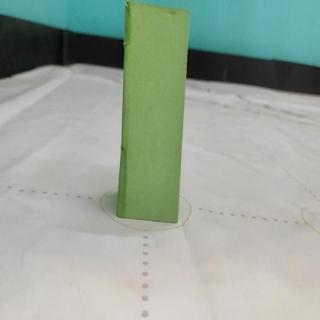greenbox: (118, 1, 192, 224)
